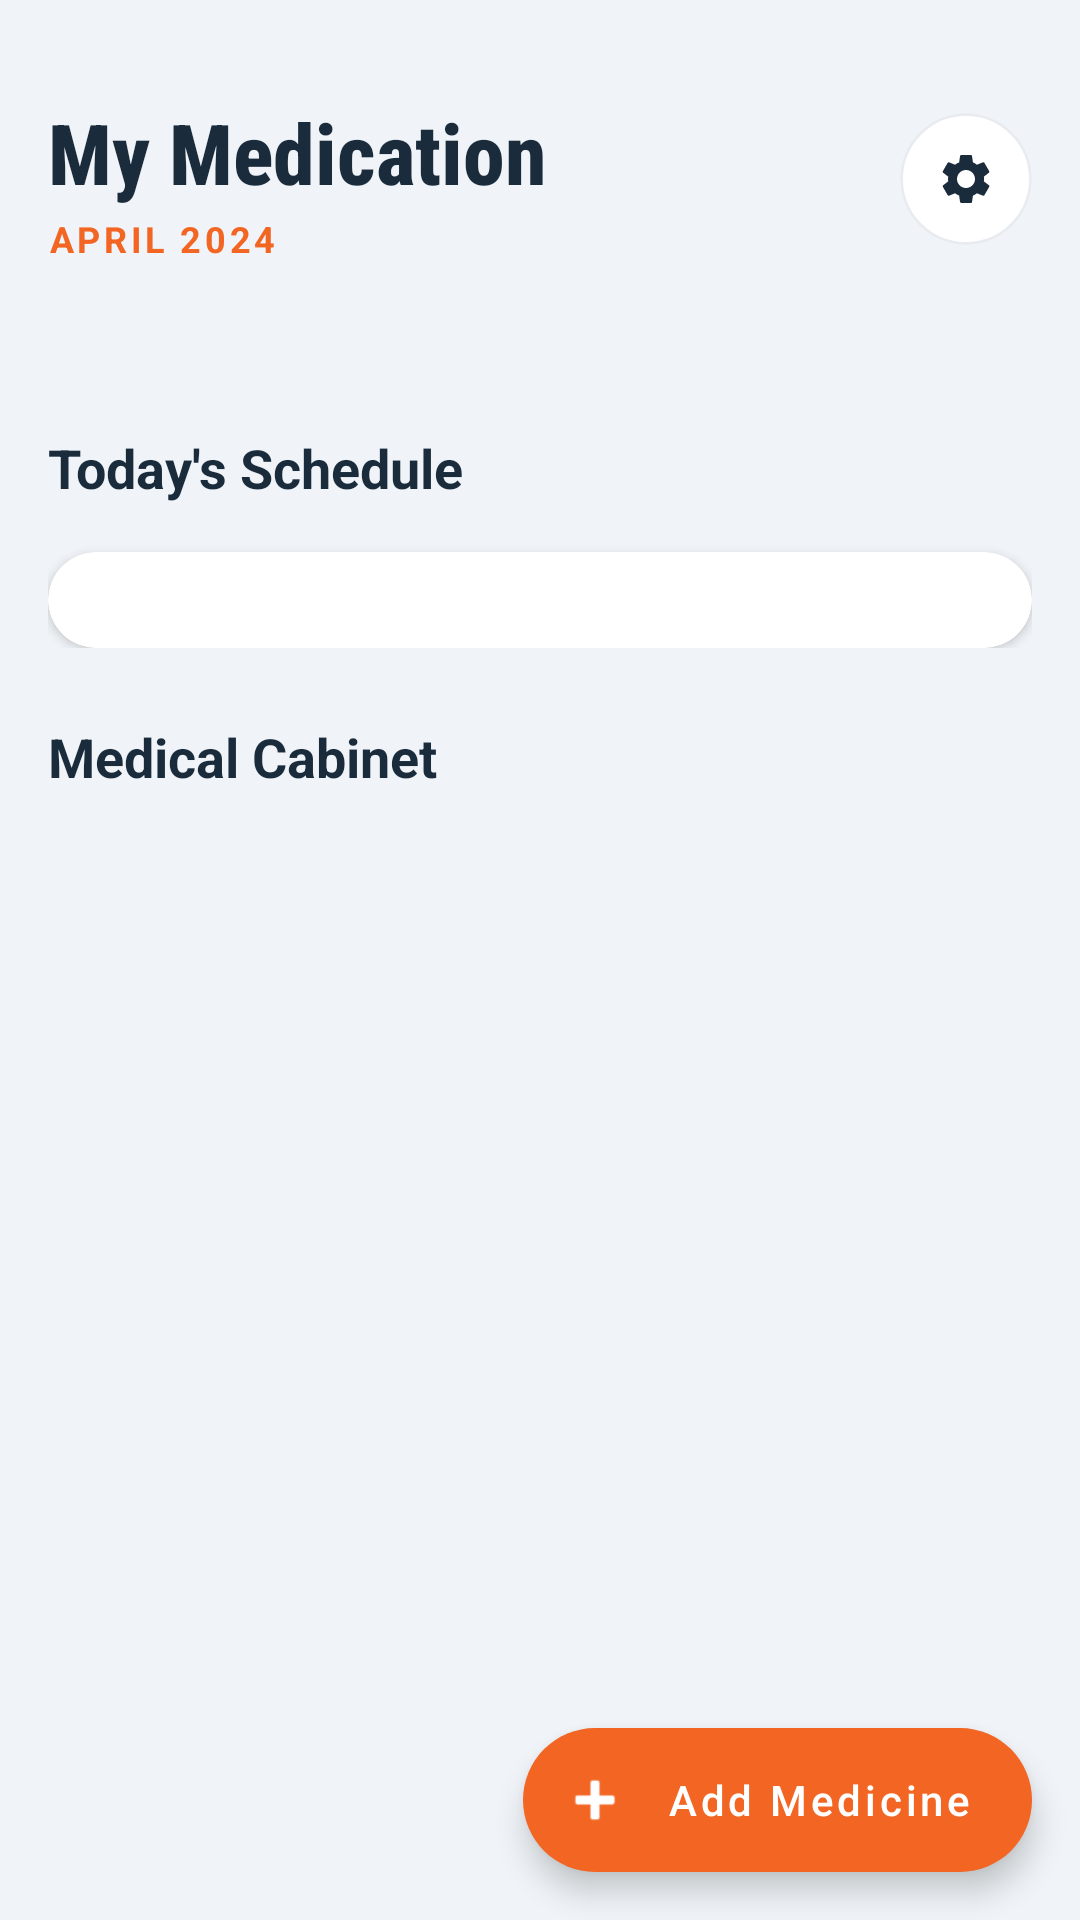

Named icons in this screenshot (1080x1920) and their bounding boxes, [x1=x1, y1=y1, x2=x2, y2=y2]:
settings: [x1=942, y1=155, x2=990, y2=203]
